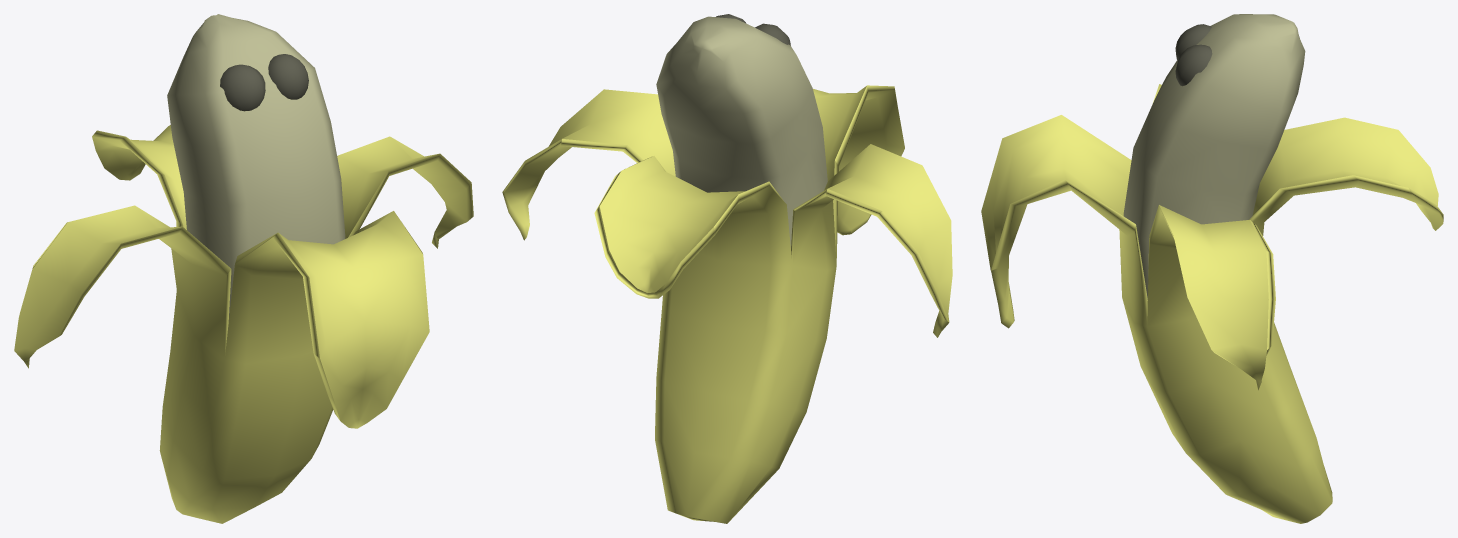
Rendered from Ruins_StatueBanana.fbx.
3 renders of one model, left to right at view 1: azimuth 30°, elevation 25°; view 2: azimuth 150°, elevation 25°; view 3: azimuth 270°, elevation 25°, orthographic. The views are drawn at different scales.
Visible parts, largest first — view 1: Banana1; view 2: Banana1; view 3: Banana1.
Part boxes in pixels (x1,y1,x2,y2): Banana1: [14, 14, 473, 523]; Banana1: [502, 14, 952, 523]; Banana1: [981, 14, 1443, 523].
Size of the model in its own units: 291 by 310 by 260.
